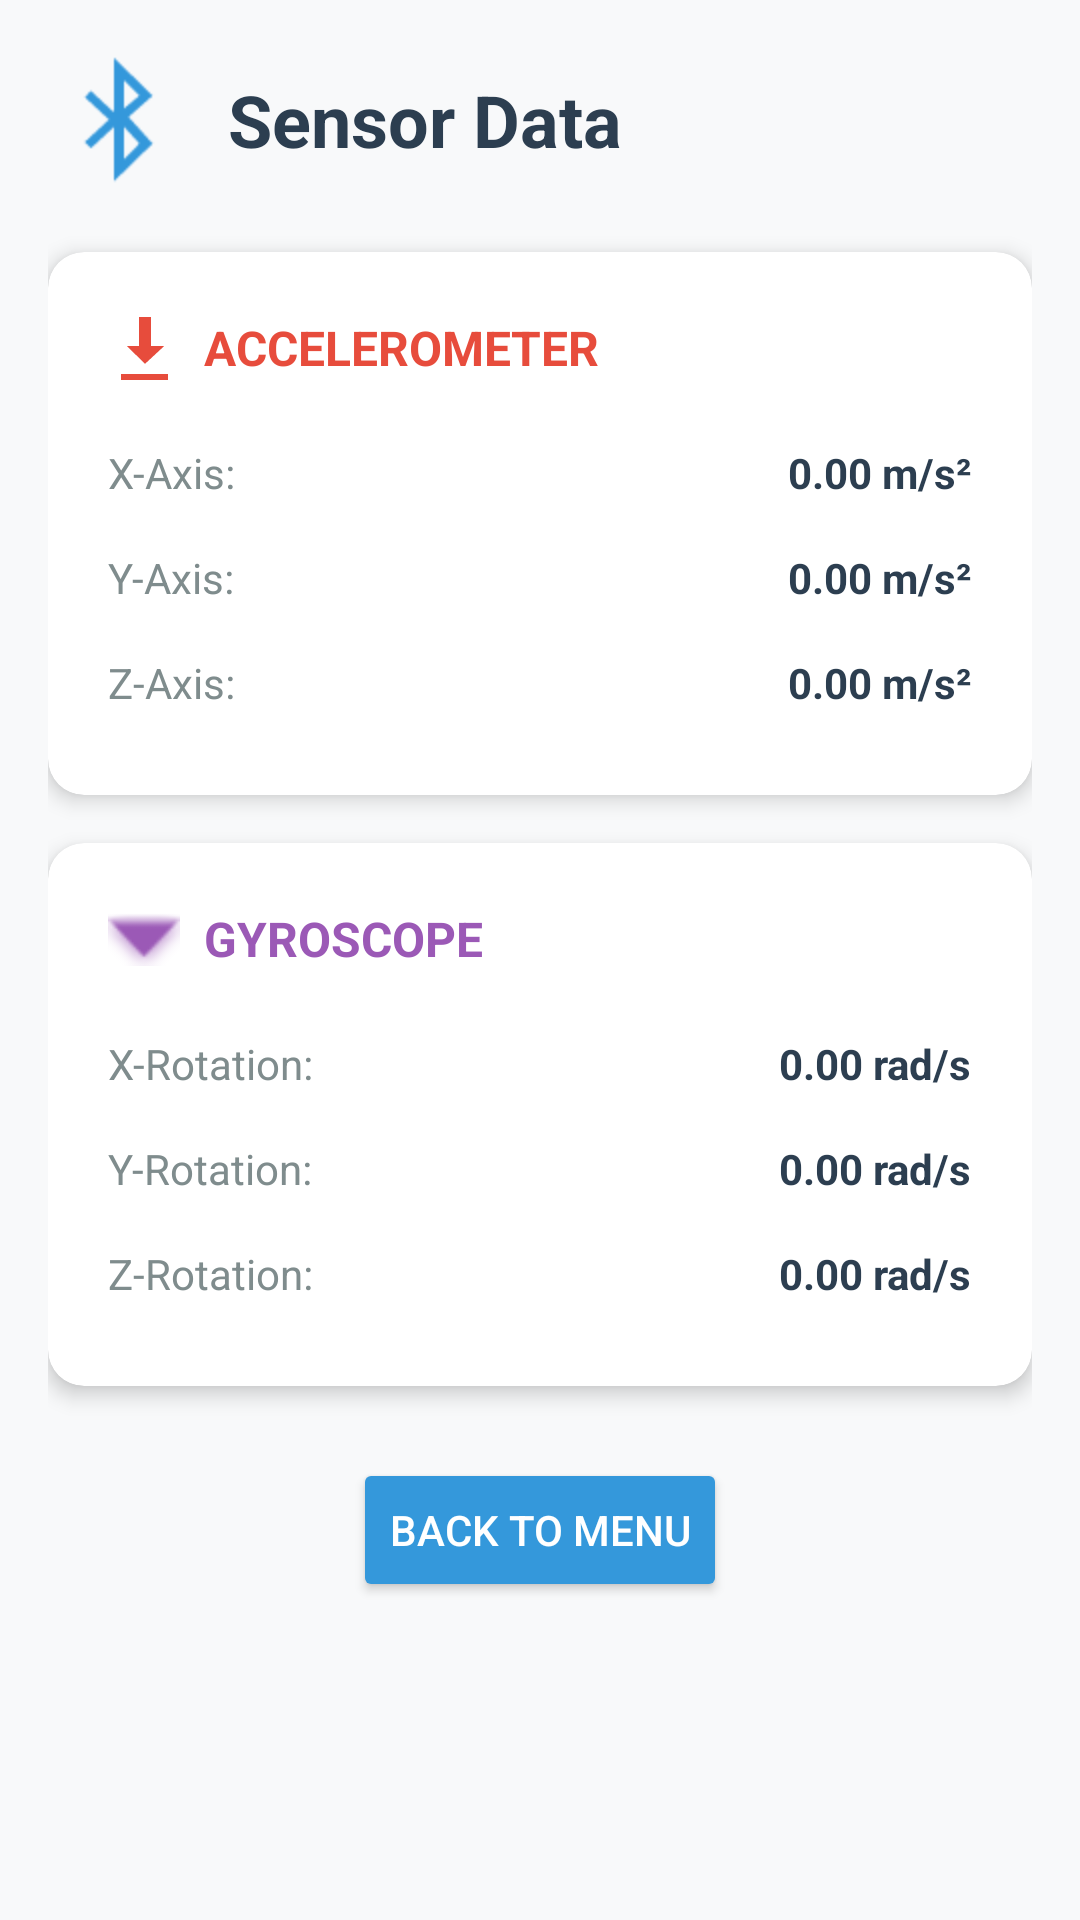

Screen size 1080w x 1920h. Icon name, then its box in pixels as bbox=[x1, y1, x2, y2]:
arrow down float: bbox=[108, 916, 180, 961]
download: bbox=[121, 317, 168, 380]
